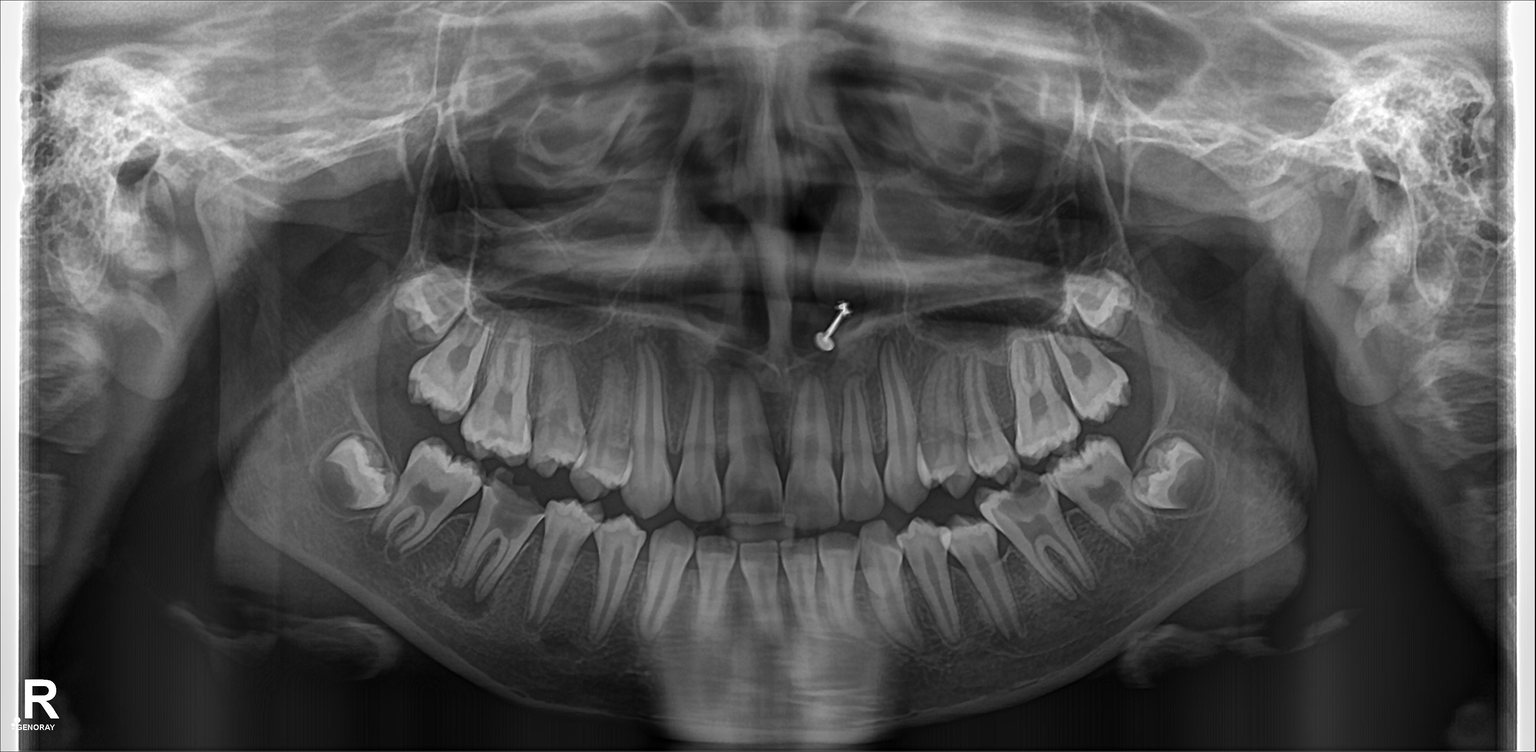Dental Caries: (492, 473, 539, 538), (1013, 475, 1049, 512)
Impacted Third Molar: (315, 436, 390, 506), (389, 274, 459, 340), (1136, 449, 1216, 506), (1075, 275, 1140, 328)
